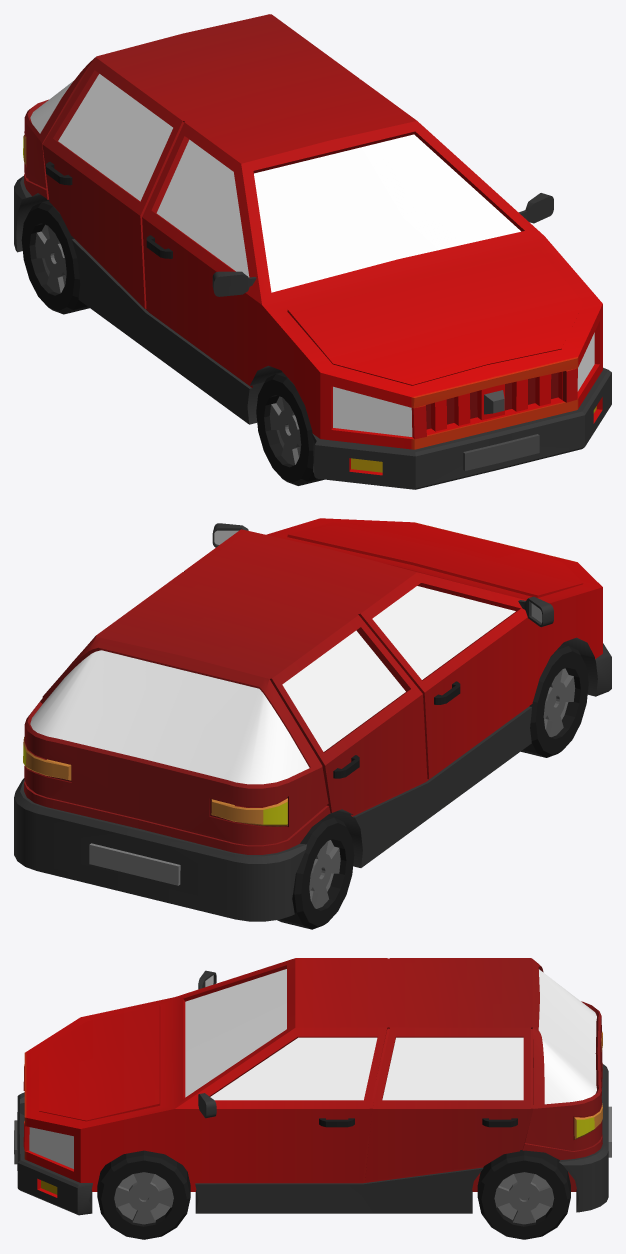
File: RedCar.glb
3 views of the same model, one above another, from view 1: azimuth 30°, elevation 25°; view 2: azimuth 150°, elevation 25°; view 3: azimuth 270°, elevation 25° (orthographic). The views are drawn at different scales.
Parts seen in each view (by area): view 1: Body, RearRightTire, FrontRightTire; view 2: Body, RearRightTire, FrontRightTire; view 3: Body, RearLeftTire, FrontLeftTire.
Boxes of the visible parts, bbox=[...] form: Body: bbox=[14, 14, 611, 489]; RearRightTire: bbox=[21, 200, 89, 314]; FrontRightTire: bbox=[256, 372, 323, 485]; Body: bbox=[14, 518, 611, 921]; RearRightTire: bbox=[277, 815, 354, 929]; FrontRightTire: bbox=[521, 644, 588, 757]; Body: bbox=[14, 958, 611, 1215]; RearLeftTire: bbox=[477, 1150, 570, 1239]; FrontLeftTire: bbox=[97, 1150, 190, 1239].
Bounding box in the file's own units: 1.15 × 0.7749 × 2.16.
Materials: 2 (1 with a texture image).
